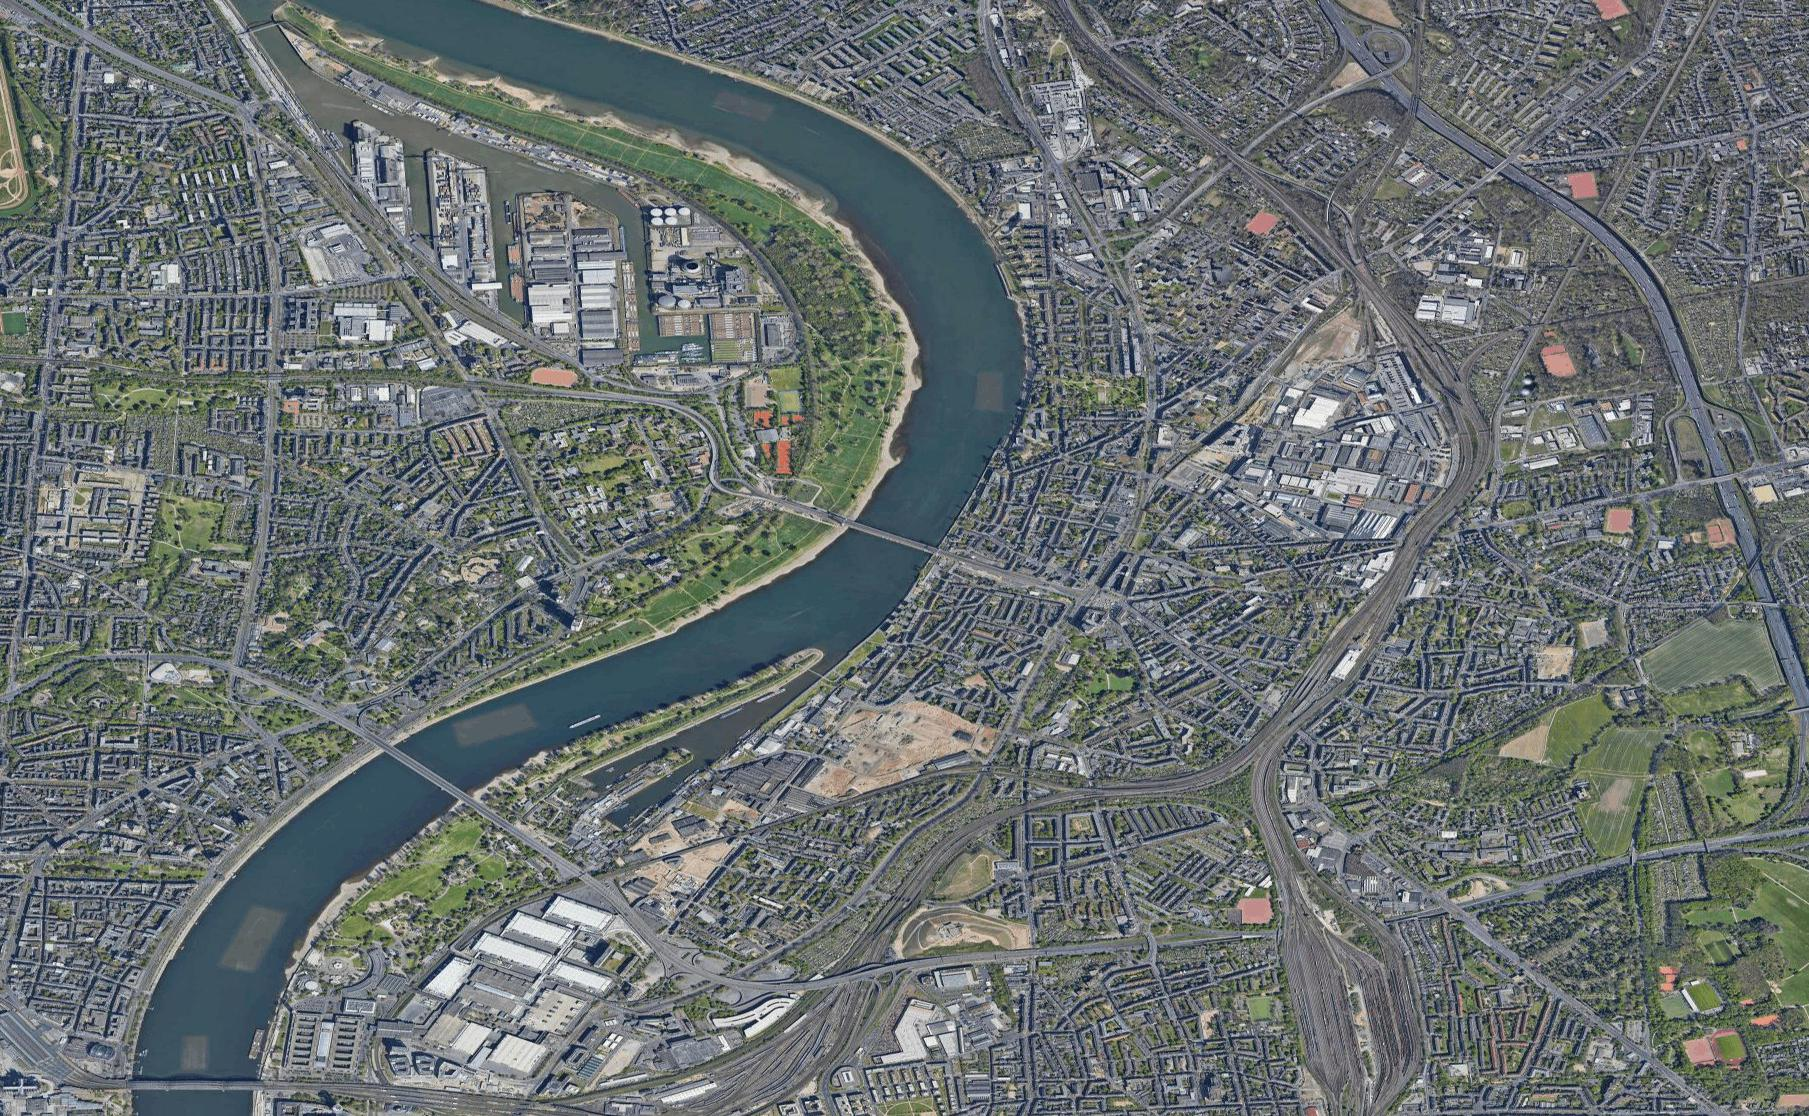bridge: (124, 1063, 267, 1102), (381, 744, 472, 801), (837, 515, 945, 561)
industrial: (410, 896, 618, 1082), (1250, 372, 1452, 540)
motorway: (1315, 1, 1433, 121), (1433, 111, 1560, 207), (1556, 198, 1651, 297), (1697, 421, 1759, 550), (1748, 558, 1809, 687), (1650, 294, 1711, 424)
